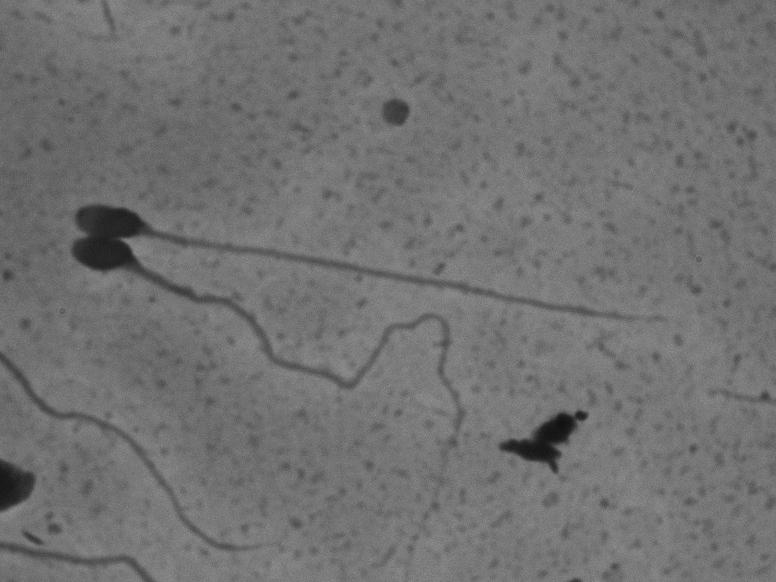Abnormal: (64, 232, 479, 498), (63, 192, 660, 335)
